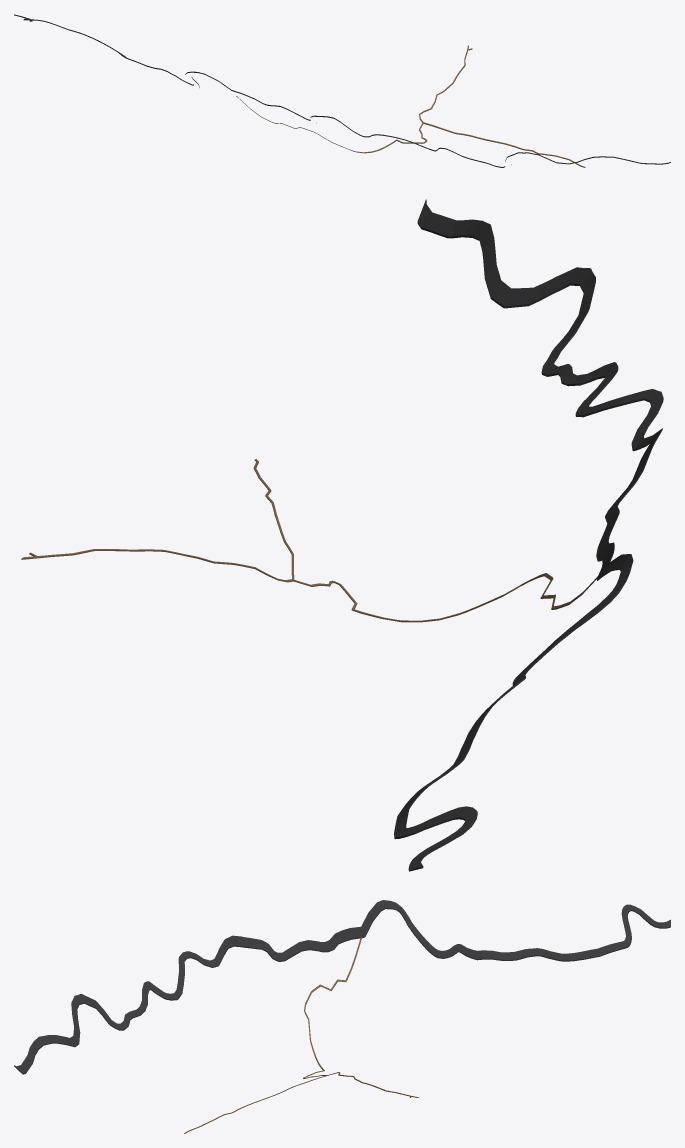
3 renders of one model, top to bottom at view 1: azimuth 30°, elevation 25°; view 2: azimuth 150°, elevation 25°; view 3: azimuth 270°, elevation 25°, orthographic. The views are drawn at different scales.
Size of the model in its own units: 398 by 106 by 678.
